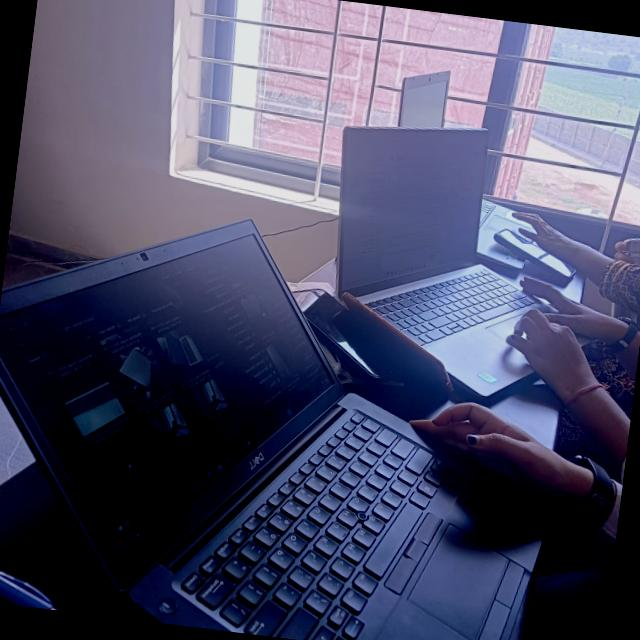laptop: (0, 211, 591, 640), (291, 110, 578, 401)
